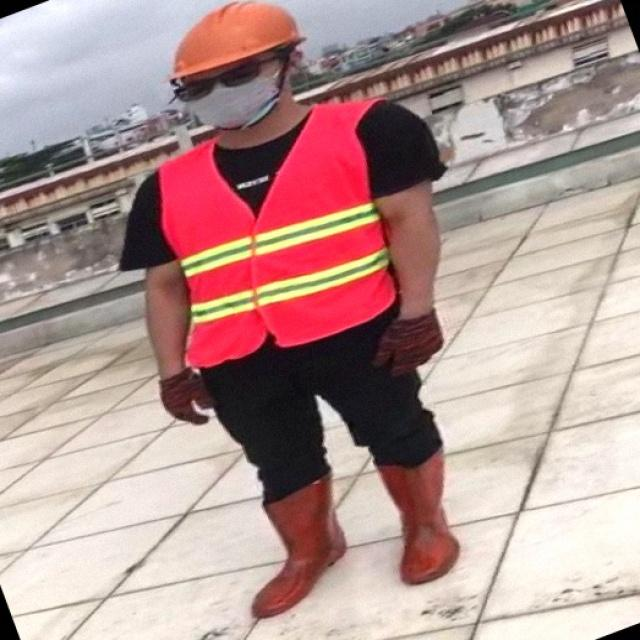helmet: (140, 11, 324, 75)
safety_vest: (138, 100, 408, 376)
